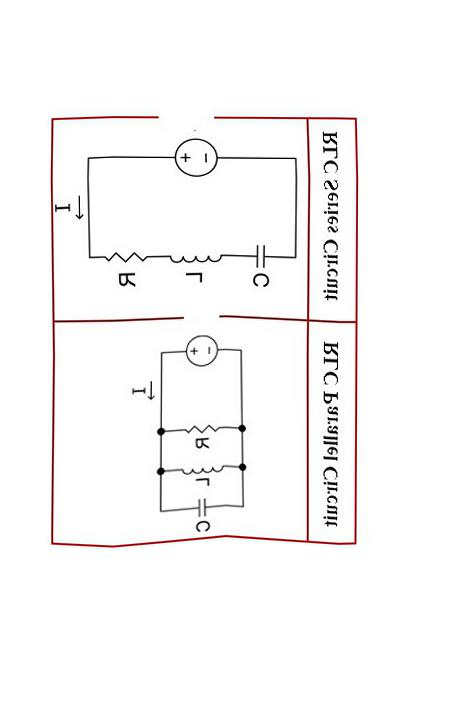Battery: (154, 119, 235, 202), (169, 320, 229, 372)
